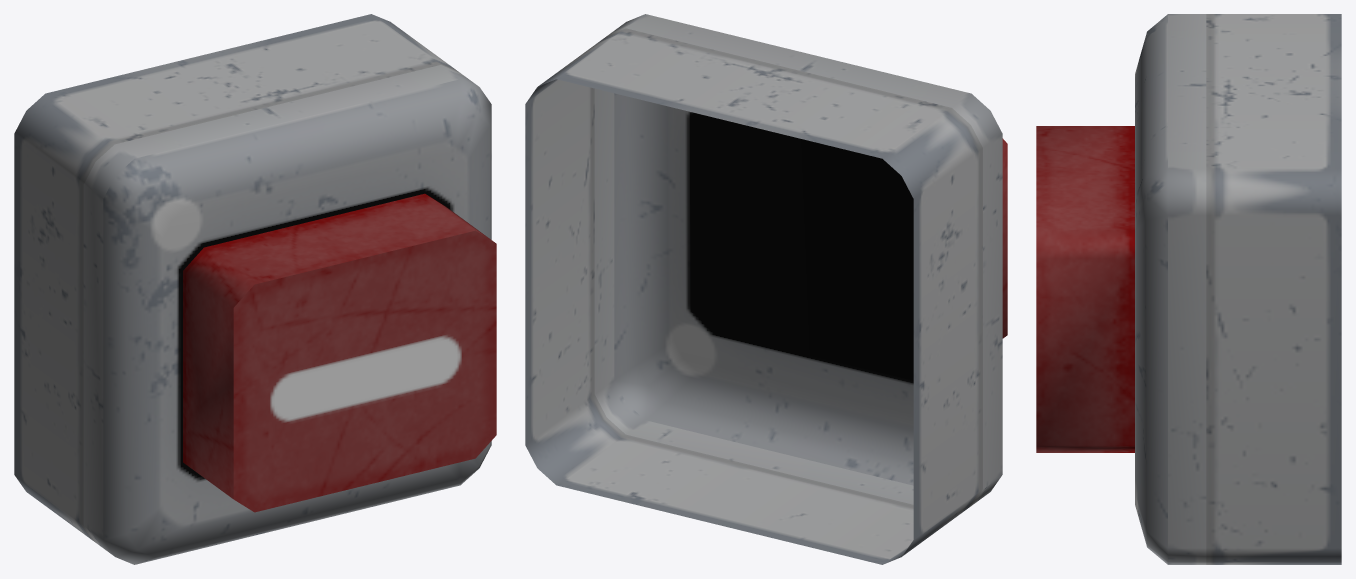
File: Button B5.fbx
3 renders of one model, left to right at view 1: azimuth 30°, elevation 25°; view 2: azimuth 150°, elevation 25°; view 3: azimuth 270°, elevation 25°, orthographic. The views are drawn at different scales.
Visible parts, largest first — view 1: ButtonFrame B5_LOD0, ButtonHead B5_LOD0; view 2: ButtonFrame B5_LOD0, ButtonHead B5_LOD0; view 3: ButtonFrame B5_LOD0, ButtonHead B5_LOD0.
Part boxes in pixels (x1,y1,x2,y2): ButtonFrame B5_LOD0: [14, 14, 491, 564]; ButtonHead B5_LOD0: [183, 193, 496, 512]; ButtonFrame B5_LOD0: [525, 14, 1002, 564]; ButtonHead B5_LOD0: [1002, 138, 1007, 338]; ButtonFrame B5_LOD0: [1135, 14, 1341, 564]; ButtonHead B5_LOD0: [1036, 126, 1134, 452].
Size of what is drawn, in the model's own units: 13.73 by 13.73 by 9.6.
Materials: 1 (1 with a texture image).
